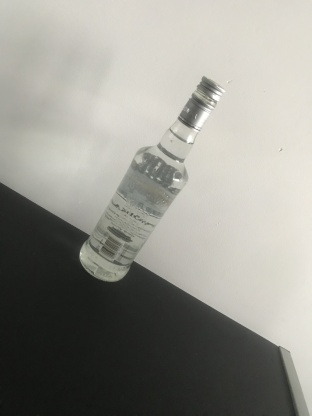nakretka: (176, 74, 226, 134)
